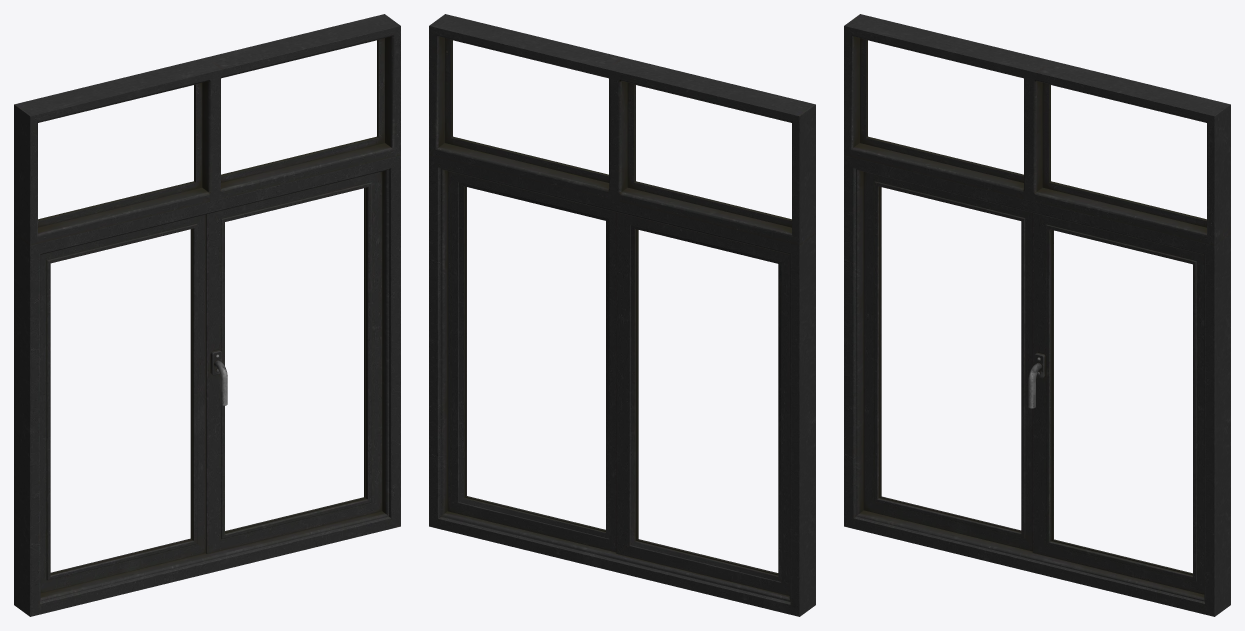
The model's file is window.glb.
3 renders of one model, left to right at view 1: azimuth 30°, elevation 25°; view 2: azimuth 150°, elevation 25°; view 3: azimuth 330°, elevation 25°, orthographic.
Parts seen in each view (by area): view 1: F, UP, L, R; view 2: F, UP, R, L; view 3: F, UP, L, R.
Part boxes in pixels (x1,y1,x2,y2): F: (14, 155, 400, 616); UP: (14, 14, 400, 245); L: (206, 171, 382, 553); R: (40, 214, 205, 593); F: (429, 155, 815, 616); UP: (429, 14, 815, 245); R: (616, 212, 789, 595); L: (447, 171, 616, 552); F: (844, 155, 1230, 616); UP: (844, 14, 1230, 245); L: (1028, 213, 1204, 594); R: (863, 172, 1032, 551).
Size of what is drawn, in the model's own units: 2.37 by 3.06 by 0.2306.
Materials: 1 (1 with a texture image).
